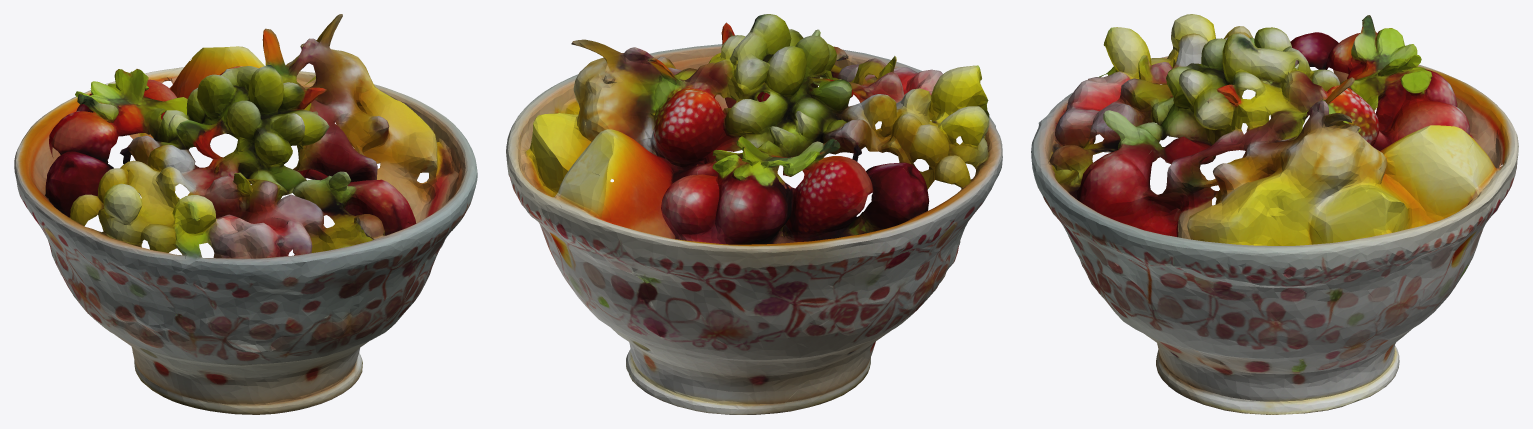
Rendered from trellis-ejemplo.glb.
3 renders of one model, left to right at view 1: azimuth 30°, elevation 25°; view 2: azimuth 150°, elevation 25°; view 3: azimuth 270°, elevation 25°, orthographic. The views are drawn at different scales.
Visible parts, largest first — view 1: world; view 2: world; view 3: world.
Boxes of the visible parts, x1,y1,x2,y2 form: world: (14,14,477,414); world: (506,14,1002,414); world: (1031,14,1518,414).
Bounding box in the file's own units: 0.995 × 0.7428 × 0.9994.
1 material, 1 textured.
